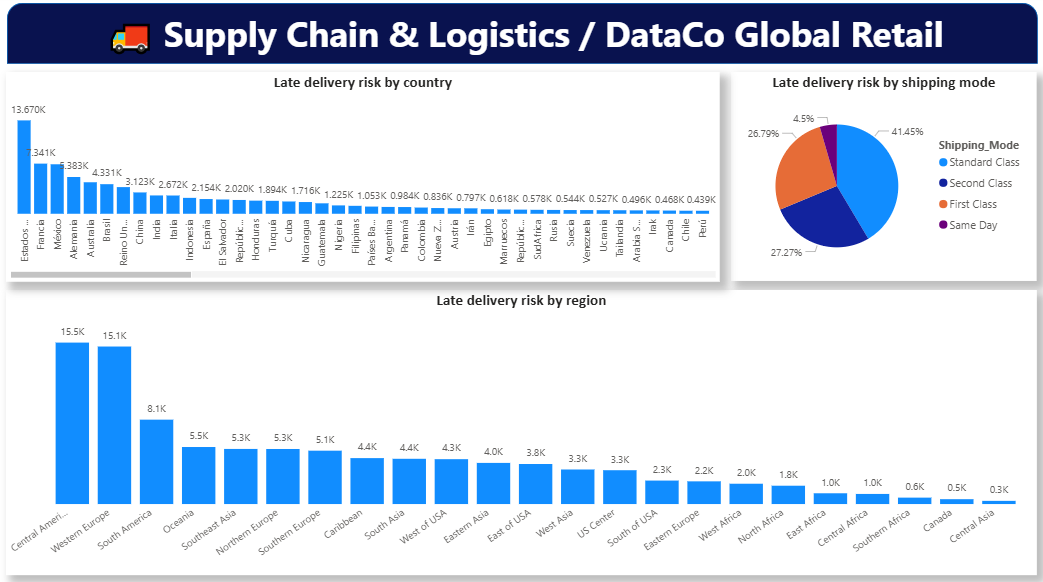

The page's visual inventory and layout, read from the dashboard file:
{"tool":"powerbi","page":{"name":"🚚 Supply Chain & Logistics ","canvas":[1280,720],"ordinal":1},"visuals":[{"type":"pieChart","title":"Late delivery risk by shipping mode","fields":{"Y":["Sum(Supply_Chain_Reporting.Late_delivery_risk)"],"Category":["Supply_Chain_Reporting.Shipping_Mode"]},"box":[895.7,94,373.4,255.1],"z":0},{"type":"shape","box":[11.7,9.6,1258,74.3],"z":1},{"type":"textbox","box":[64,12.4,1161.6,74.3],"z":2},{"type":"columnChart","title":"Late delivery risk by region","fields":{"Y":["Sum(Supply_Chain_Reporting.Late_delivery_risk)"],"Category":["Supply_Chain_Reporting.Order_Region"]},"box":[11,360.6,1258,348.2],"z":3},{"type":"columnChart","title":"Late delivery risk by country","fields":{"Y":["Sum(Supply_Chain_Reporting.Late_delivery_risk)"],"Category":["Supply_Chain_Reporting.Order_Country"]},"box":[11,93.6,871.2,256],"z":4}]}

Visuals, with their boxes in screenshot pixels (x1, y1, x2, y2), scaled from the page's 1280x720 canvas onto the 1043x582 screenshot:
"Late delivery risk by shipping mode" pieChart: [730, 76, 1034, 282]
shape: [10, 8, 1035, 68]
textbox: [52, 10, 999, 70]
"Late delivery risk by region" columnChart: [9, 291, 1034, 573]
"Late delivery risk by country" columnChart: [9, 76, 719, 283]
